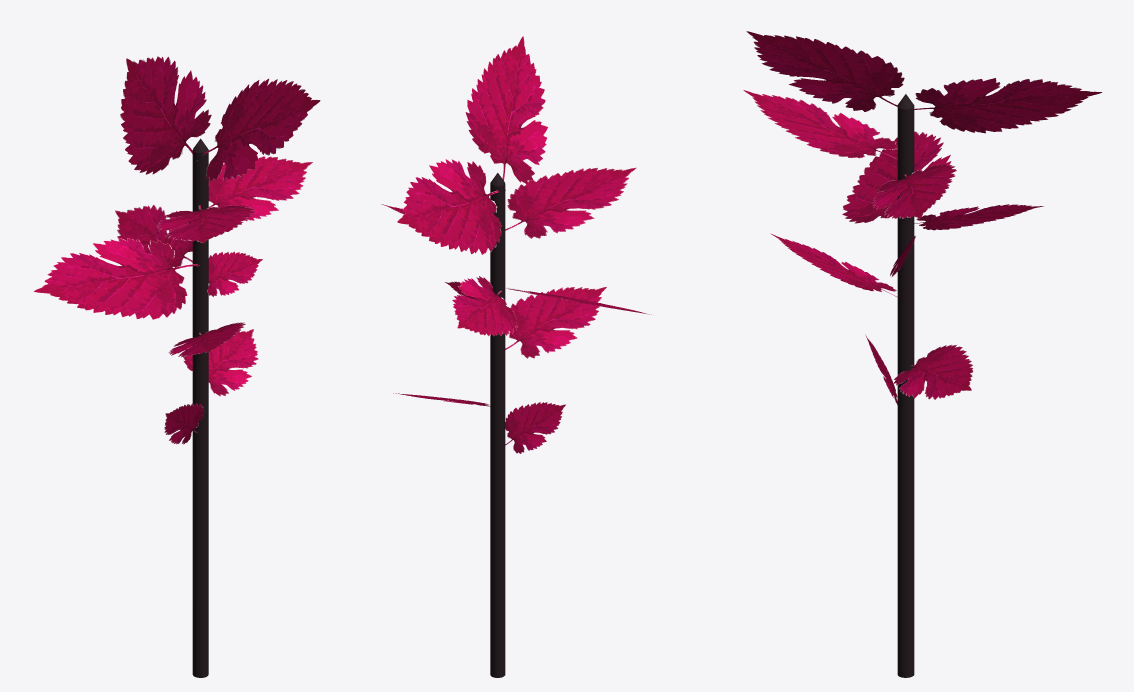
File: tree1.fbx
3 views of the same model, side by side, from view 1: azimuth 30°, elevation 25°; view 2: azimuth 150°, elevation 25°; view 3: azimuth 270°, elevation 25° (orthographic). The views are drawn at different scales.
Visible parts, largest first — view 1: pCylinder66; view 2: pCylinder66; view 3: pCylinder66.
Part boxes in pixels (bbox=[...]): pCylinder66: bbox=[33, 56, 320, 677]; pCylinder66: bbox=[381, 36, 651, 677]; pCylinder66: bbox=[743, 31, 1101, 677].
Bounding box in the file's own units: 9.65 × 20.14 × 10.77.
